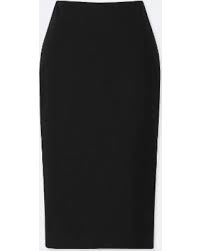F_tailored skirt: (34, 1, 161, 251)
